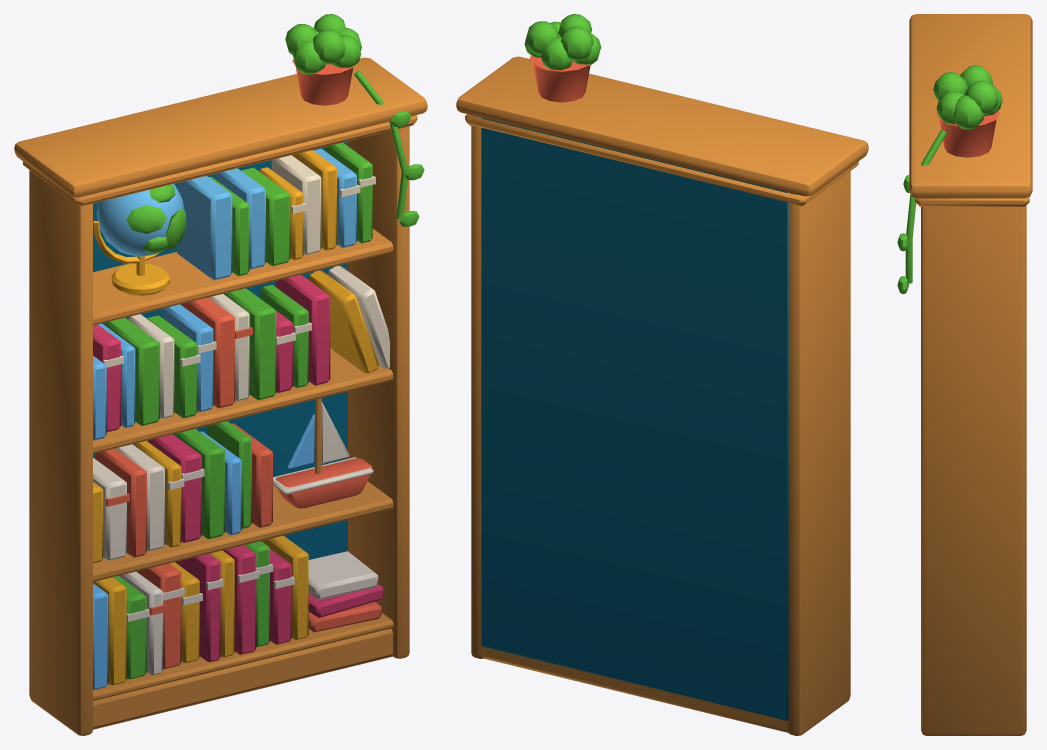
The model's file is bookshelf.glb.
3 views of the same model, side by side, from view 1: azimuth 30°, elevation 25°; view 2: azimuth 150°, elevation 25°; view 3: azimuth 270°, elevation 25° (orthographic).
Visible parts, largest first — view 1: bookshelf; view 2: bookshelf; view 3: bookshelf.
Part boxes in pixels (box(x1,y1,x2,y2)): bookshelf: box(14, 14, 427, 735); bookshelf: box(456, 14, 868, 735); bookshelf: box(897, 14, 1032, 735).
Bounding box in the file's own units: 1.4 × 2.37 × 0.46.
